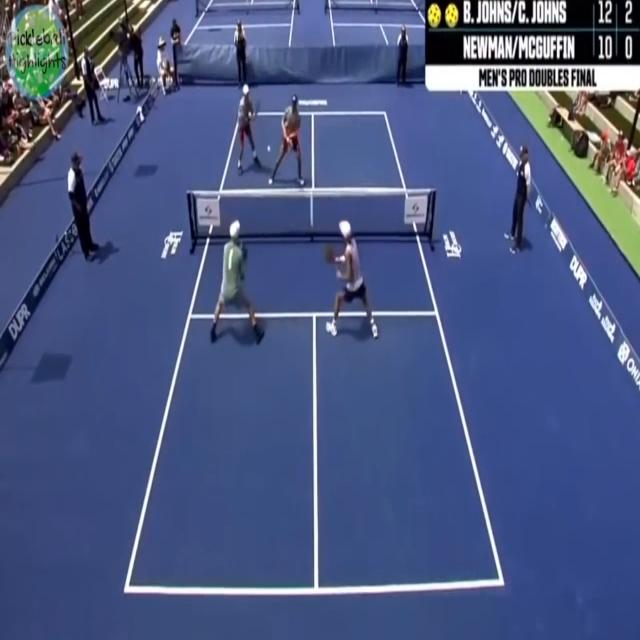ball: (263, 135, 277, 165)
